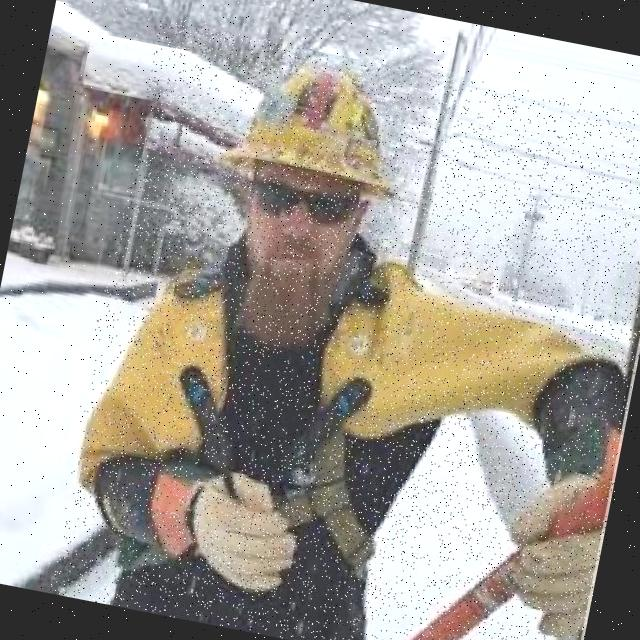helmet: (220, 49, 422, 217)
vest: (62, 224, 637, 596)
